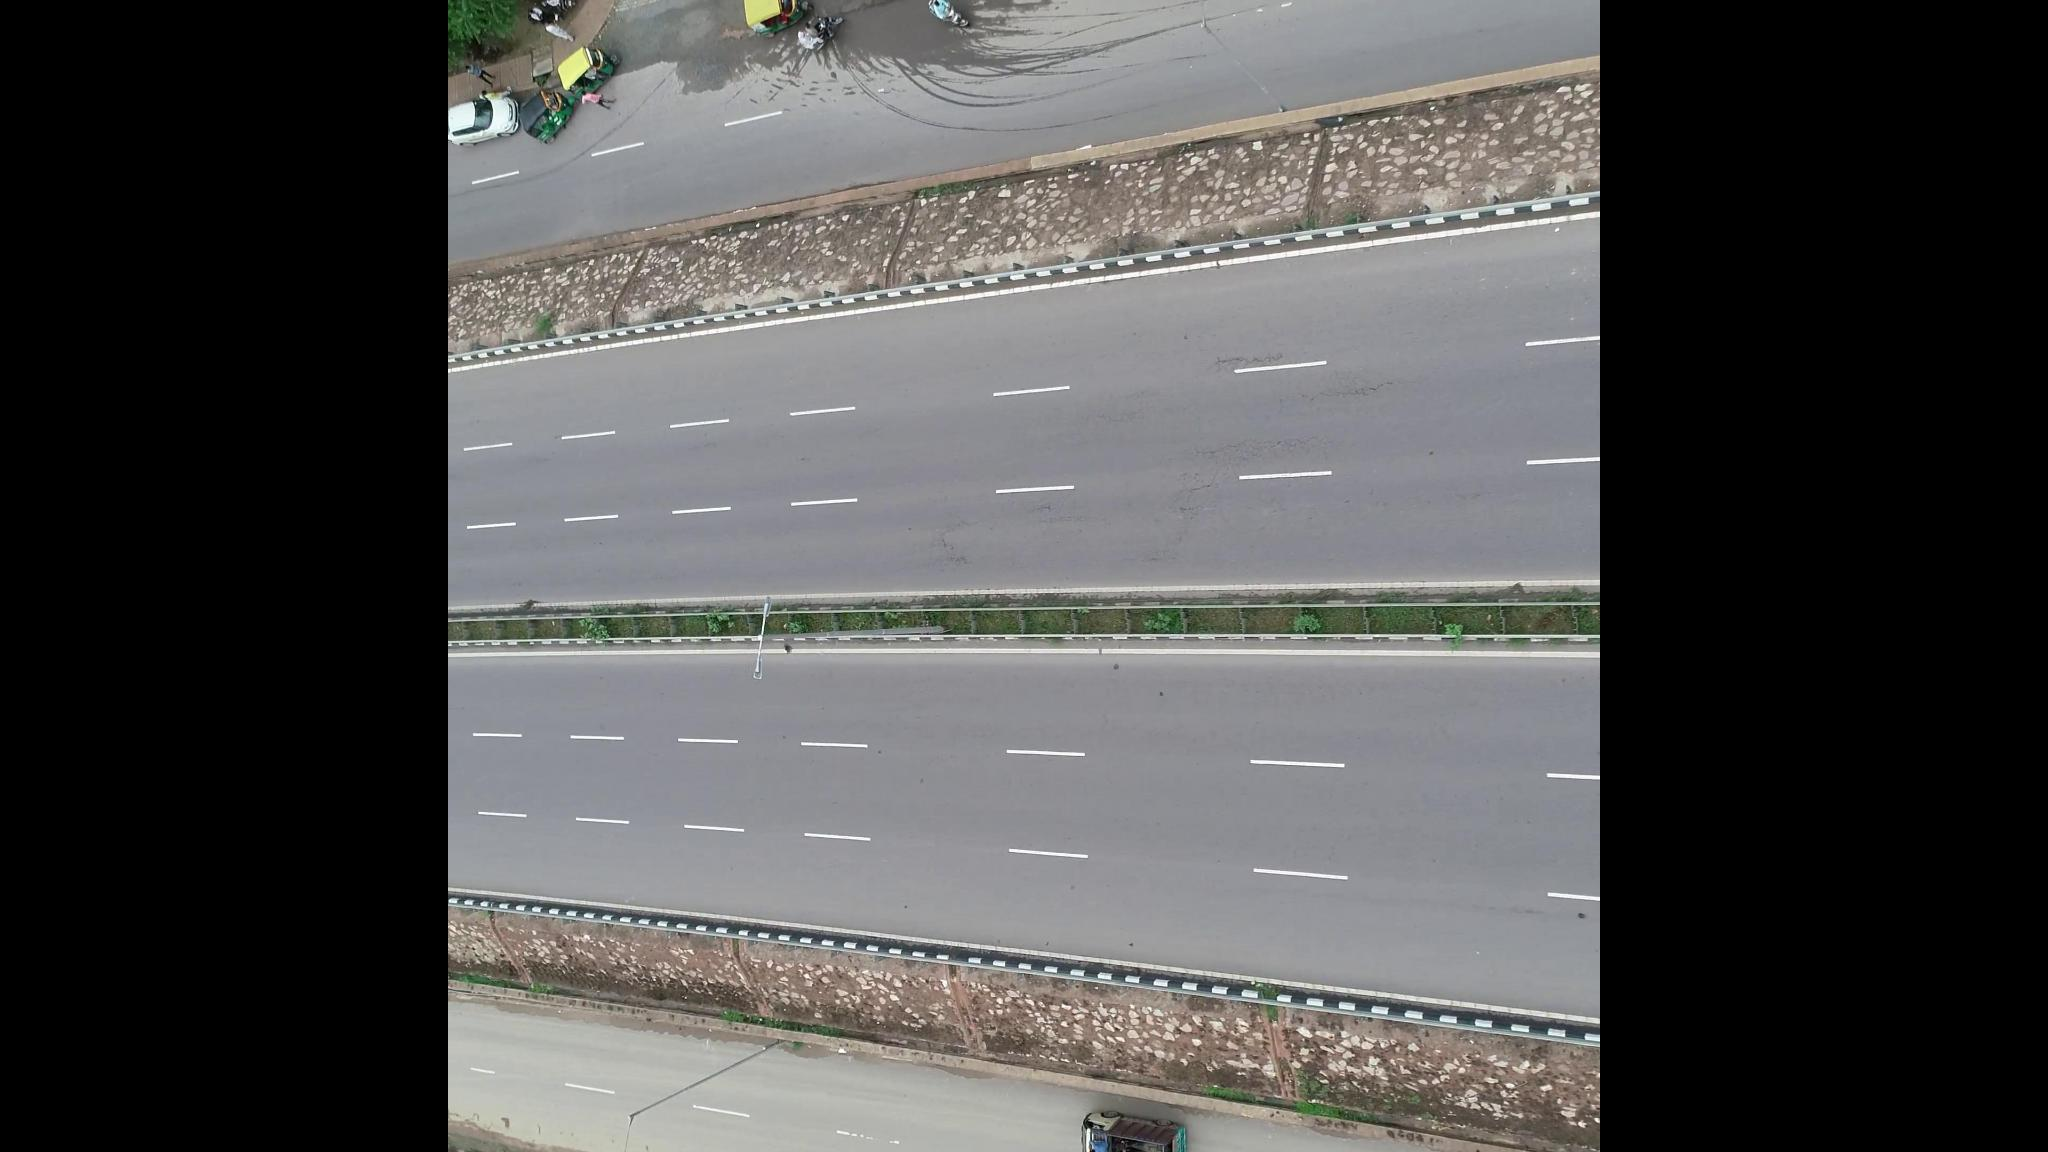Cracks: (1184, 428, 1325, 497)
